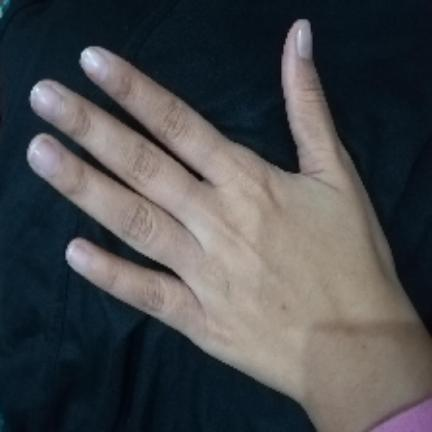Nail: (27, 135, 61, 175), (80, 46, 110, 83), (31, 82, 61, 118), (67, 239, 92, 278), (296, 20, 312, 59)
